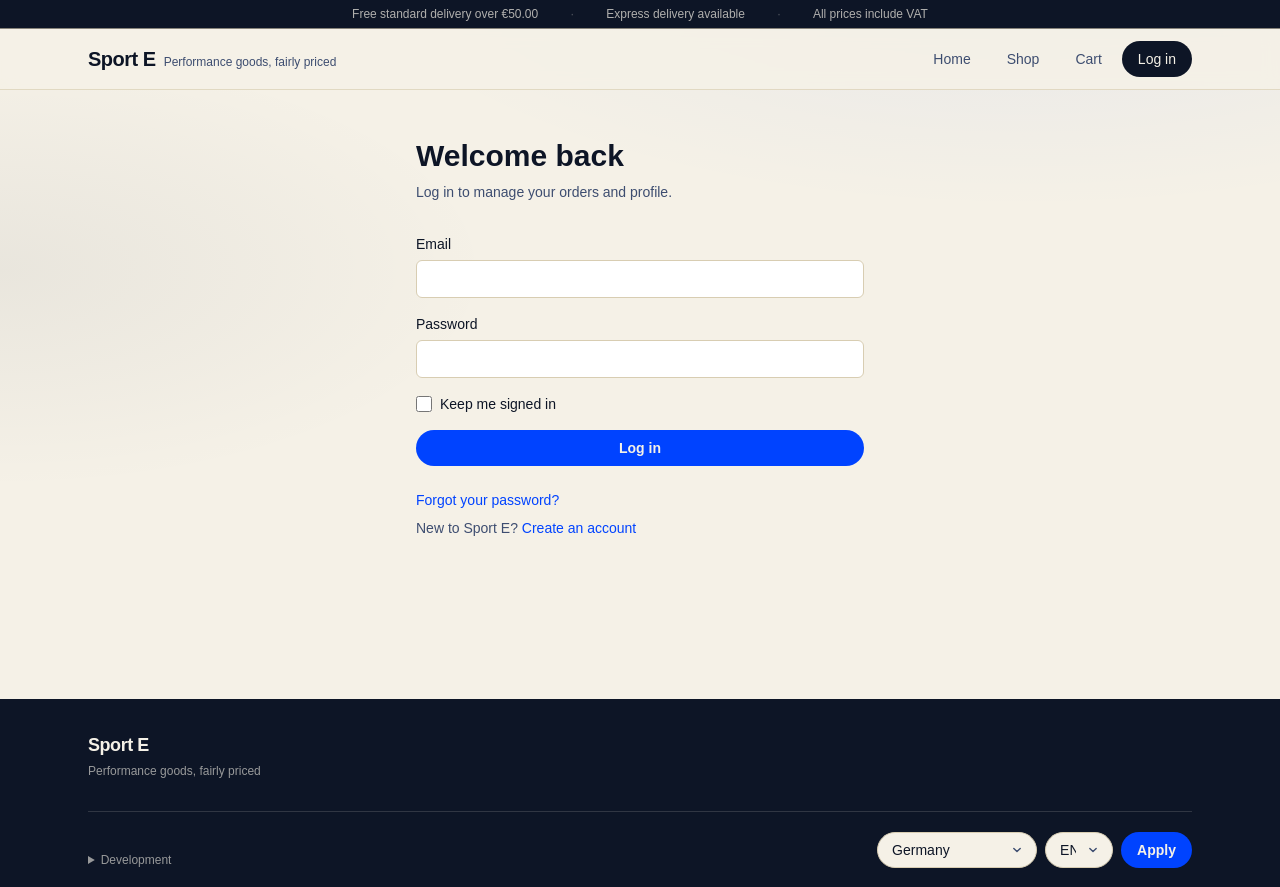
Scenario: identity pages › logs in with CSRF, installs context and lands on the profile
Type "flow@example.test" into the field labelled "Email" at (640, 279), box [416, 260, 864, 298]
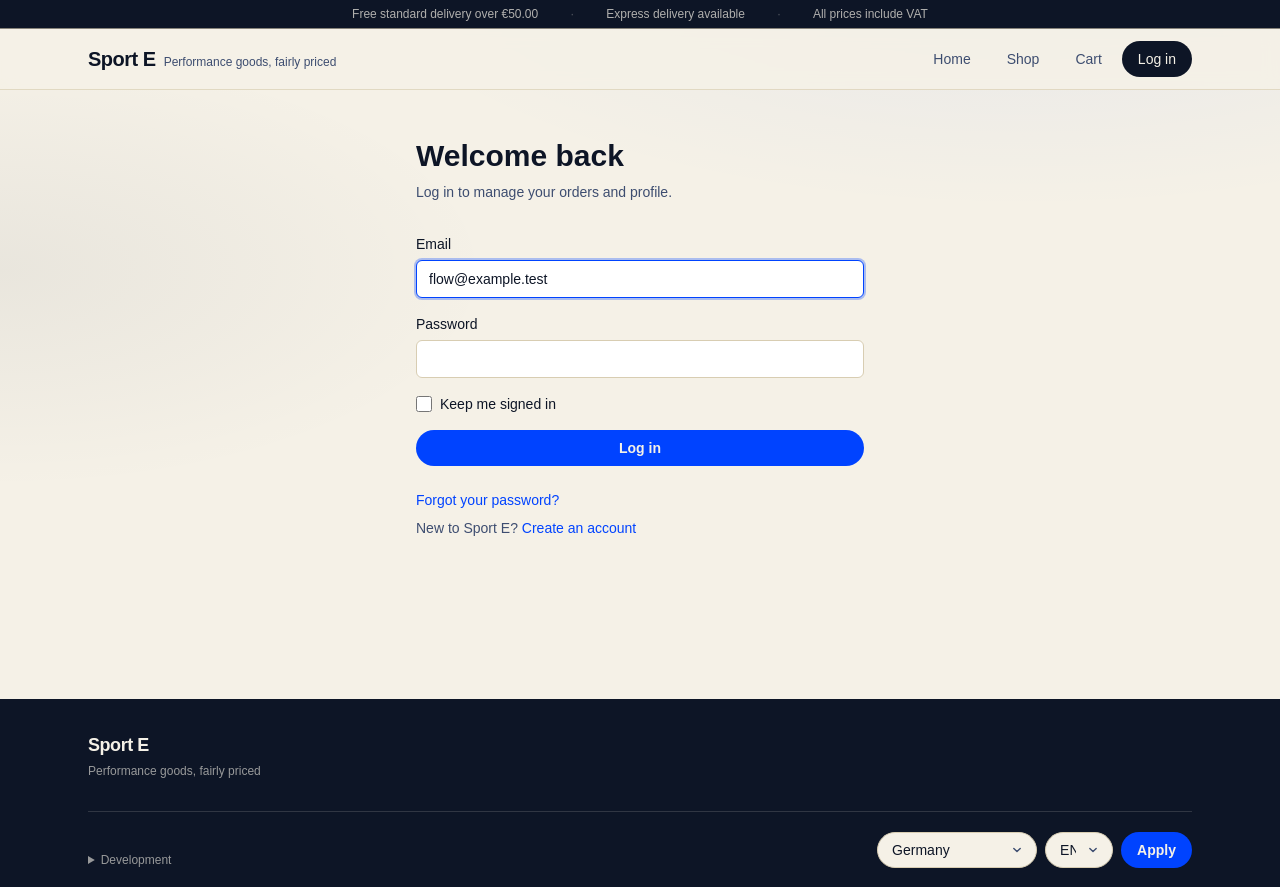
Type "Sport-E!2026" into the password field labelled "Password" at (640, 359), box [416, 340, 864, 378]
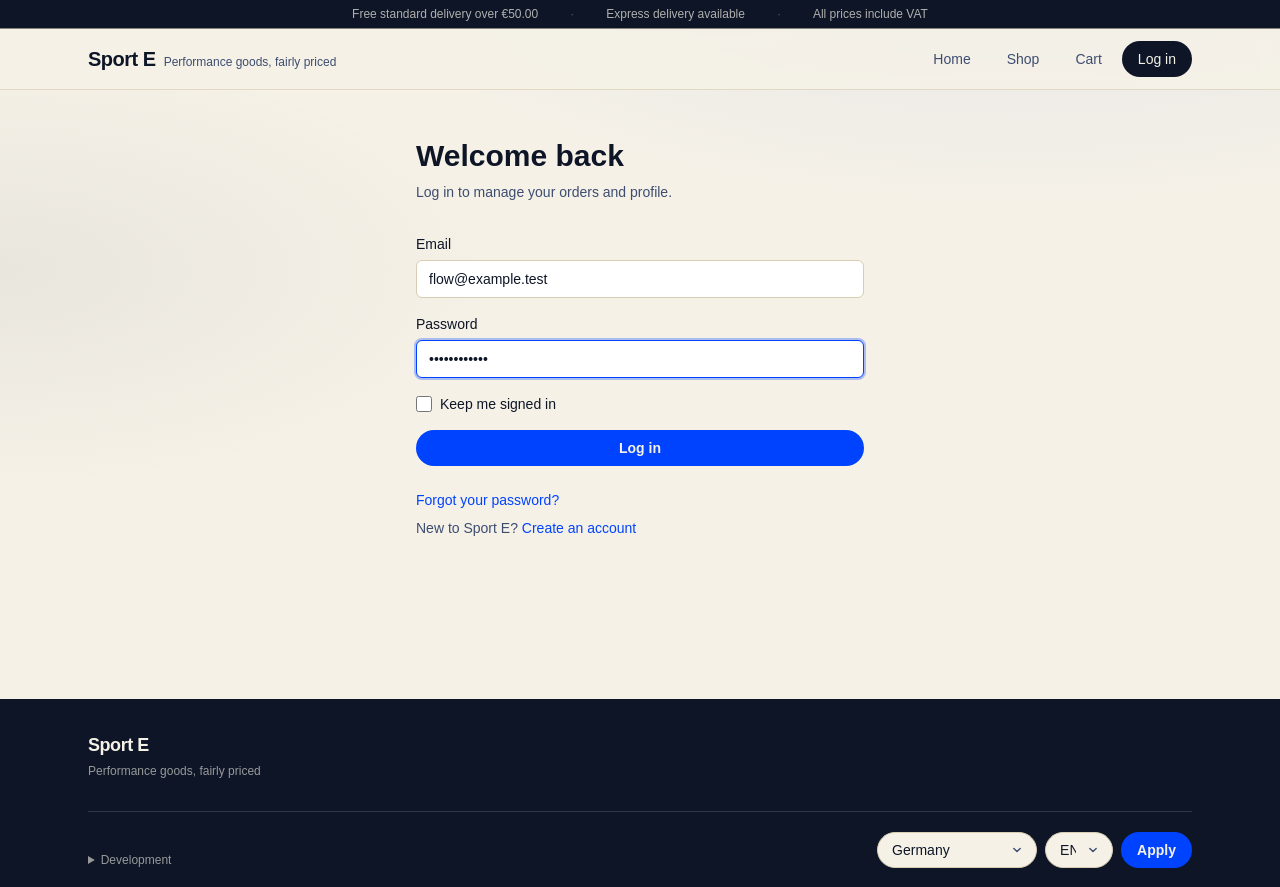
Click the button "Log in" at (640, 448), box [416, 430, 864, 466]
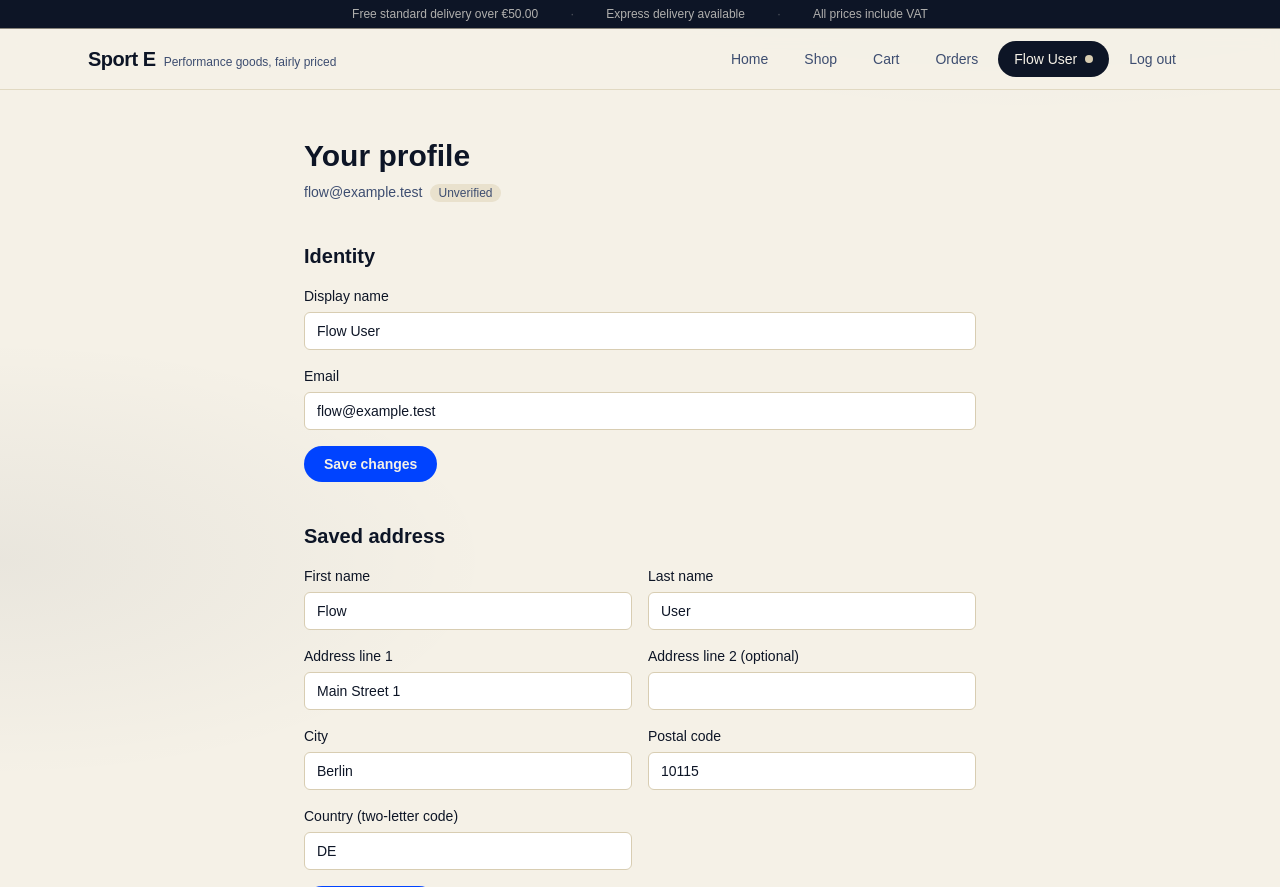
Result: the heading "Your profile" is shown at [304, 139, 470, 172]
Result: the text "flow@example.test" is shown at [304, 184, 422, 200]
